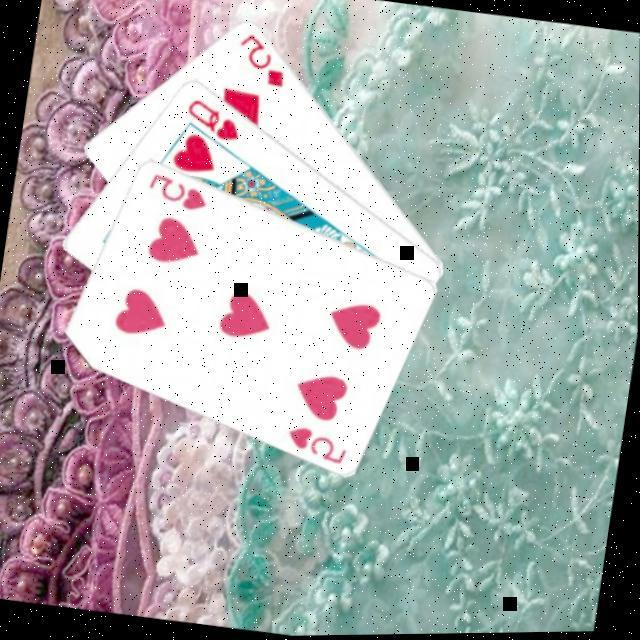5D: (232, 30, 295, 94)
5H: (282, 423, 356, 471), (144, 170, 215, 218)
QH: (182, 95, 250, 148)
